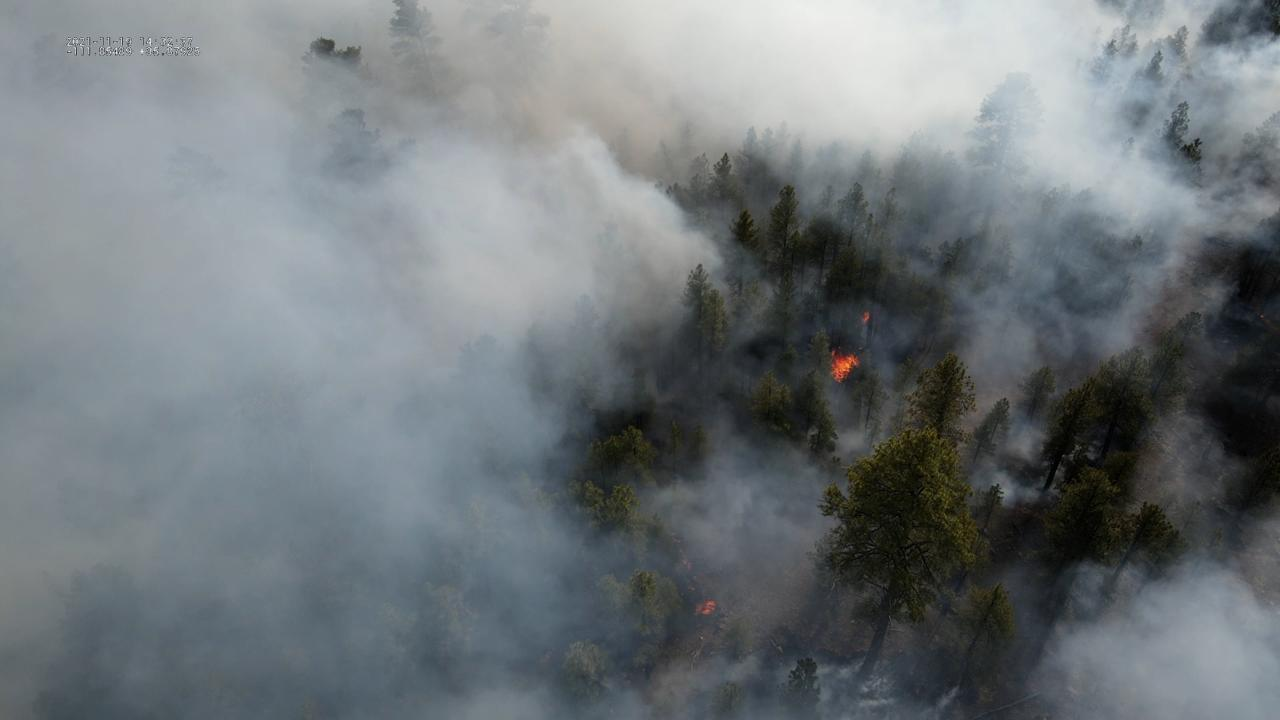fire: (828, 346, 861, 384), (693, 598, 718, 618), (861, 310, 871, 324)
smoke: (0, 0, 1280, 720)
